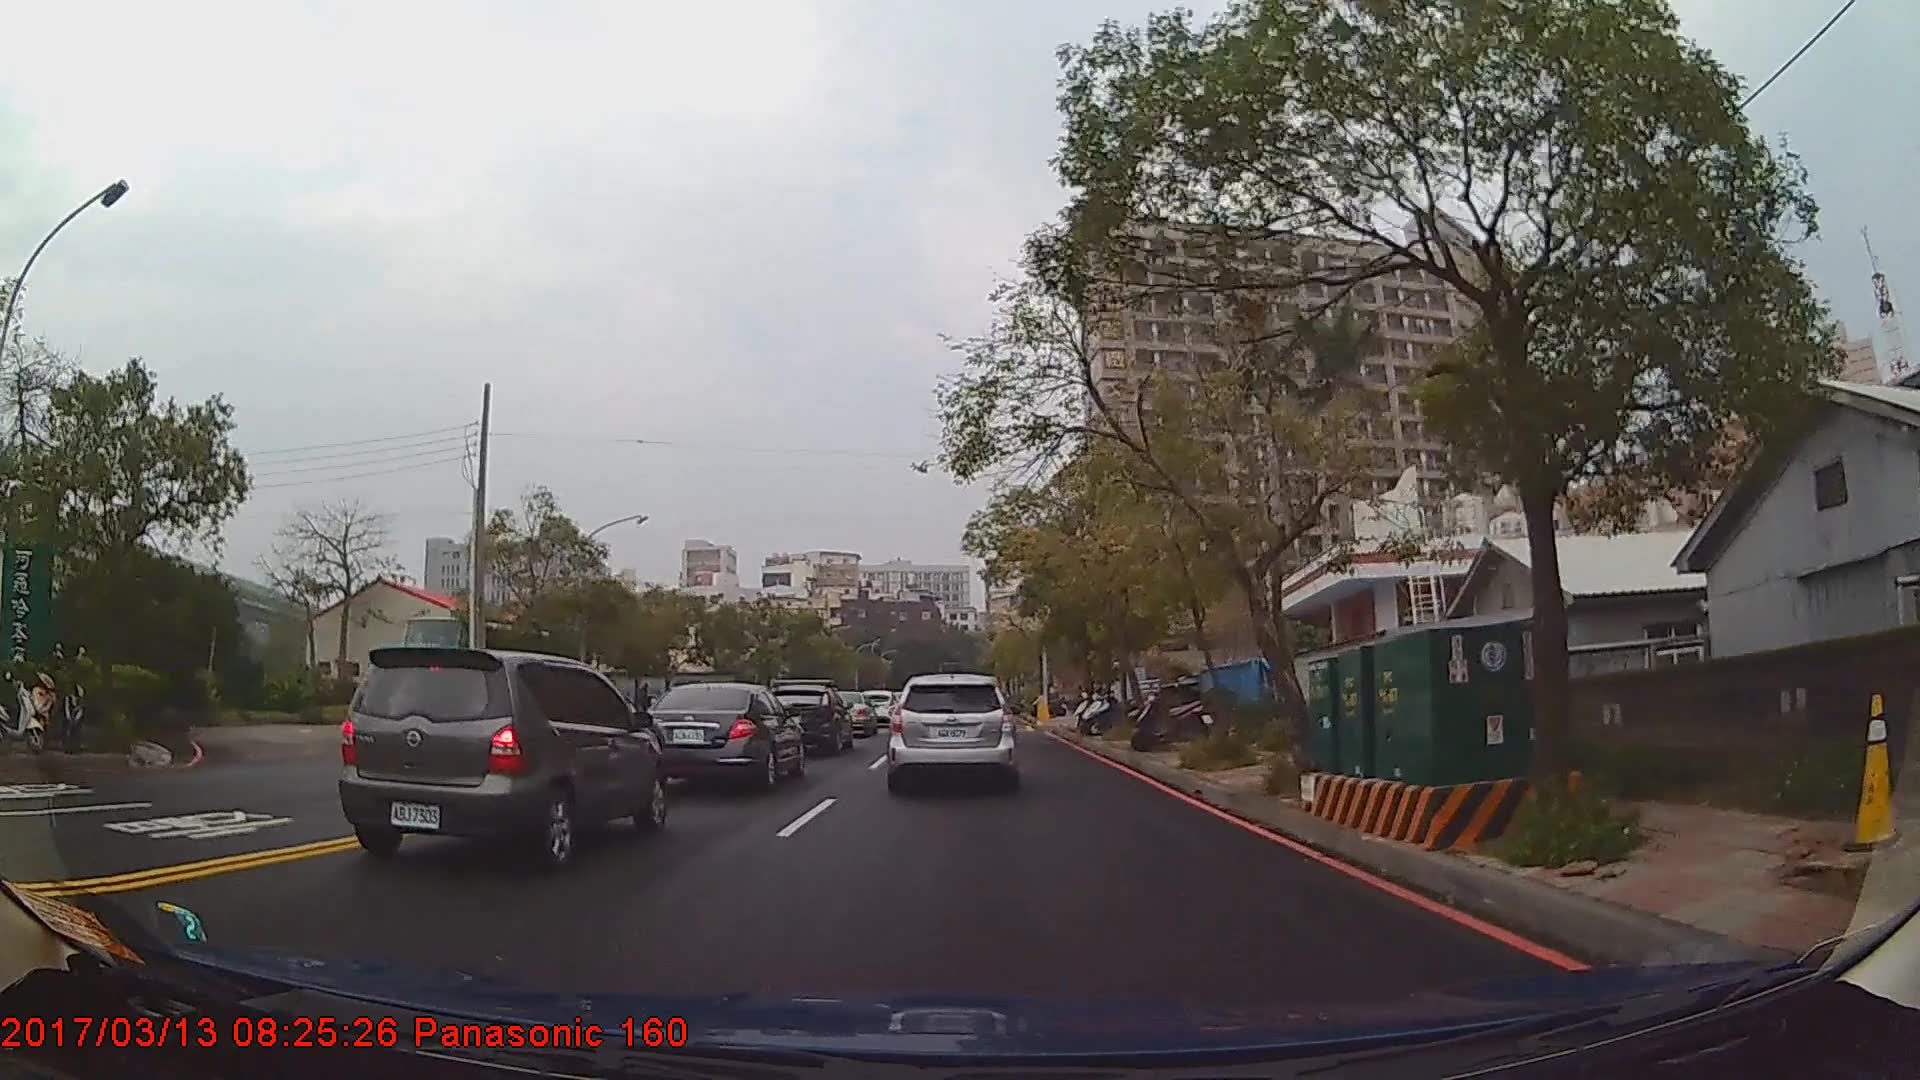vehicle: (335, 642, 669, 866), (636, 678, 807, 787), (887, 671, 1018, 789), (761, 683, 852, 753), (822, 688, 876, 736)
